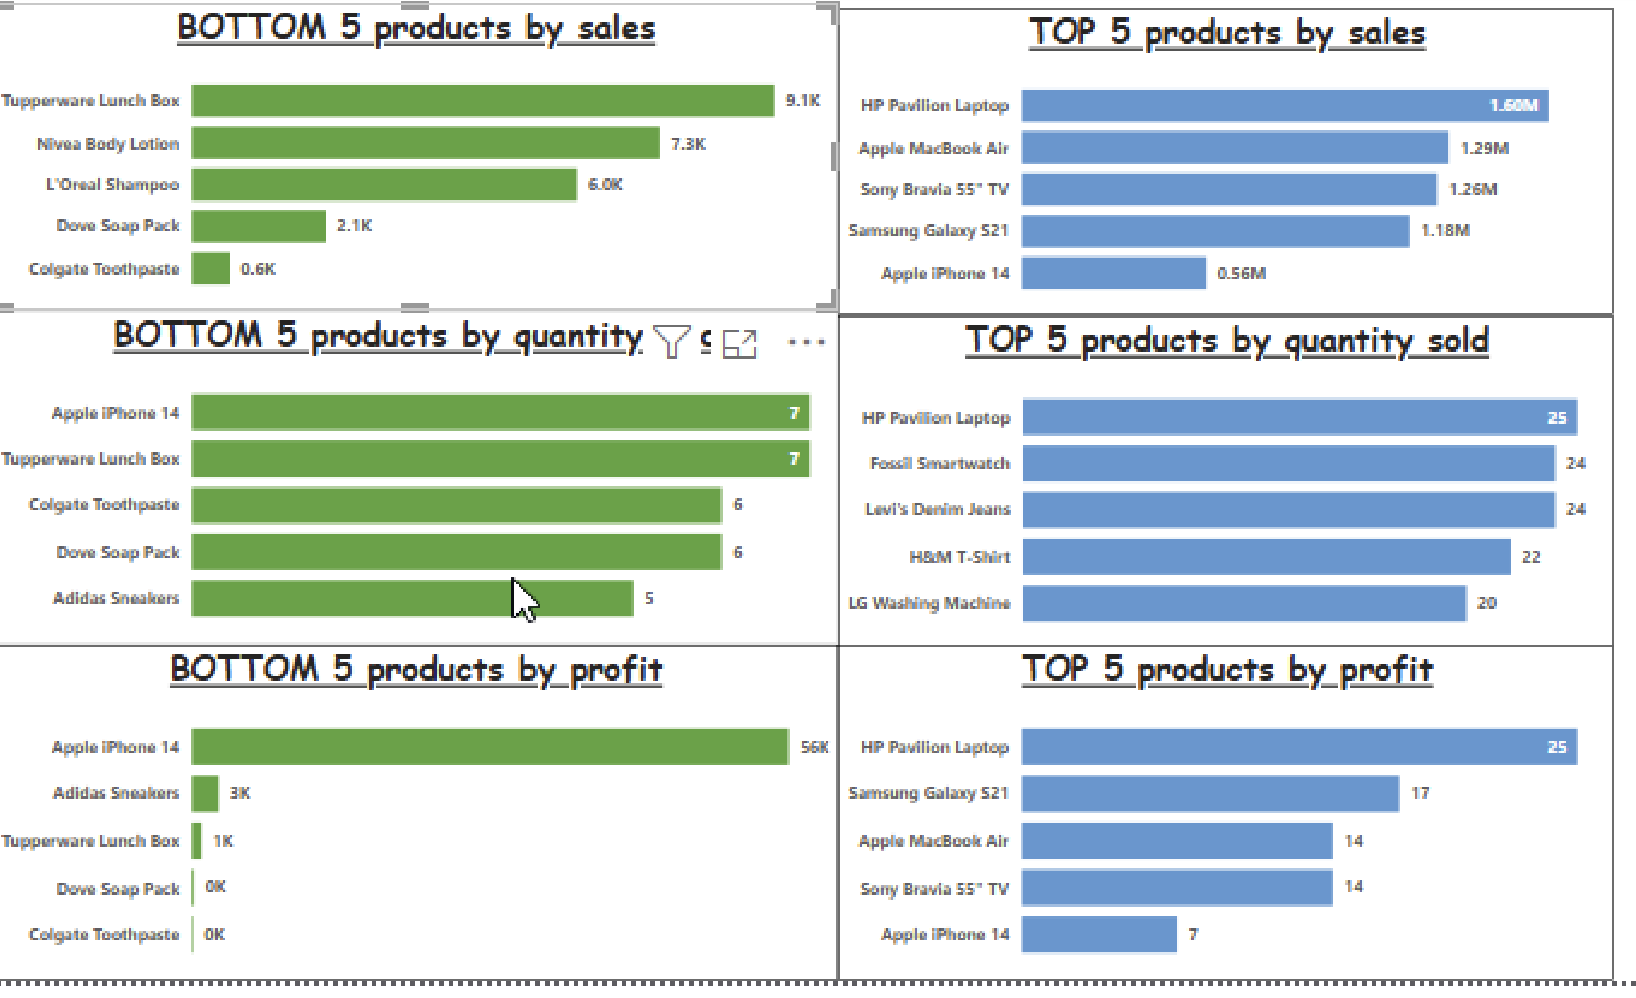

What the dashboard file says about the page in this screenshot:
{"tool":"powerbi","page":{"name":"Top/Bottom 5","canvas":[1280,720],"ordinal":2},"visuals":[{"type":"barChart","title":"TOP 5 products by sales","fields":{"Category":["Dim Product.Product Name"],"Y":["Sum(FACTS TABLE.Net Sales)"]},"box":[614.3,0,562.5,223.2],"z":0},{"type":"barChart","title":"BOTTOM 5 products by sales","fields":{"Category":["Dim Product.Product Name"],"Y":["Sum(FACTS TABLE.Net Sales)"]},"box":[0,0,614.3,223.2],"z":1},{"type":"barChart","title":"BOTTOM 5 products by quantity sold","fields":{"Category":["Dim Product.Product Name"],"Y":["Sum(FACTS TABLE.Units Sold)"]},"box":[0,223.2,614.3,242.9],"z":2},{"type":"barChart","title":"TOP 5 products by quantity sold","fields":{"Category":["Dim Product.Product Name"],"Y":["Sum(FACTS TABLE.Units Sold)"]},"box":[614.3,223.2,562.5,242.9],"z":3},{"type":"barChart","title":"BOTTOM 5 products by profit","fields":{"Category":["Dim Product.Product Name"],"Y":["Sum(FACTS TABLE.profit)"]},"box":[0,466.1,614.3,242.9],"z":4},{"type":"barChart","title":"TOP 5 products by profit","fields":{"Category":["Dim Product.Product Name"],"Y":["Sum(FACTS TABLE.Units Sold)"]},"box":[614.3,466.1,562.5,242.9],"z":5}]}

Visuals, with their boxes on the page's 1280x720 design canvas (x1, y1, x2, y2). These are canvas units, not pixel positions in the 1636x998 screenshot, which may show the page scaled, cropped or inside an application window:
"TOP 5 products by sales" barChart: box=[614, 0, 1177, 223]
"BOTTOM 5 products by sales" barChart: box=[0, 0, 614, 223]
"BOTTOM 5 products by quantity sold" barChart: box=[0, 223, 614, 466]
"TOP 5 products by quantity sold" barChart: box=[614, 223, 1177, 466]
"BOTTOM 5 products by profit" barChart: box=[0, 466, 614, 709]
"TOP 5 products by profit" barChart: box=[614, 466, 1177, 709]
